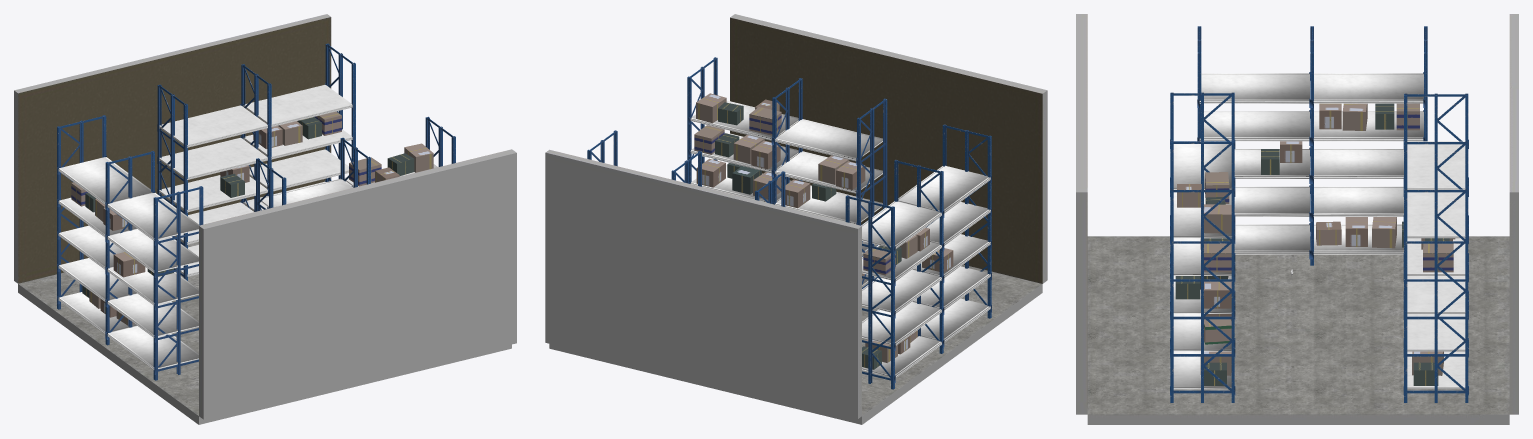
The model's file is sklad_SMALL.glb.
The picture shows the model from 3 angles, left to right: view 1: azimuth 30°, elevation 25°; view 2: azimuth 150°, elevation 25°; view 3: azimuth 270°, elevation 25°; orthographic projection. The views are drawn at different scales.
Parts seen in each view (by area): view 1: Плоскость, mezanine racking.012, mezanine racking.005, mezanine racking.003, dus.233, dus.027, dus.018, dus.232, dus.234; view 2: Плоскость, mezanine racking.012, mezanine racking.003, mezanine racking.005, dus.232, dus.233, dus.007, dus.229, dus.242, dus.228, dus.244, dus.001 (+4 smaller); view 3: Плоскость, mezanine racking.012, mezanine racking.005, mezanine racking.003, dus.010, dus.025, dus.229, dus.233, dus.022, dus.242, dus.023, dus.240 (+11 smaller).
Part boxes in pixels (bbox=[...]): Плоскость: bbox=[14, 14, 516, 424]; mezanine racking.012: bbox=[57, 115, 203, 380]; mezanine racking.005: bbox=[157, 43, 355, 280]; mezanine racking.003: bbox=[256, 116, 455, 211]; dus.233: bbox=[404, 143, 433, 172]; dus.027: bbox=[113, 252, 145, 277]; dus.018: bbox=[220, 173, 244, 197]; dus.232: bbox=[349, 157, 381, 186]; dus.234: bbox=[387, 153, 414, 175]; Плоскость: bbox=[545, 14, 1047, 424]; mezanine racking.012: bbox=[845, 124, 991, 389]; mezanine racking.003: bbox=[687, 57, 887, 288]; mezanine racking.005: bbox=[587, 130, 785, 206]; dus.232: bbox=[749, 107, 781, 135]; dus.233: bbox=[696, 93, 726, 123]; dus.007: bbox=[785, 179, 810, 208]; dus.229: bbox=[694, 125, 724, 154]; dus.242: bbox=[696, 158, 725, 187]; dus.228: bbox=[751, 140, 780, 169]; dus.244: bbox=[732, 166, 761, 194]; dus.001: bbox=[836, 161, 865, 189]; Плоскость: bbox=[1076, 14, 1518, 424]; mezanine racking.012: bbox=[1197, 26, 1427, 265]; mezanine racking.005: bbox=[1403, 93, 1468, 402]; mezanine racking.003: bbox=[1170, 92, 1235, 402]; dus.010: bbox=[1423, 243, 1453, 272]; dus.025: bbox=[1372, 217, 1396, 248]; dus.229: bbox=[1204, 243, 1231, 272]; dus.233: bbox=[1204, 204, 1231, 233]; dus.022: bbox=[1342, 103, 1367, 130]; dus.242: bbox=[1204, 281, 1231, 308]; dus.023: bbox=[1345, 217, 1367, 246]; dus.240: bbox=[1204, 319, 1231, 344].
Bounding box in the file's own units: 494 × 300 × 518.
Materials: 3 (3 with a texture image).
